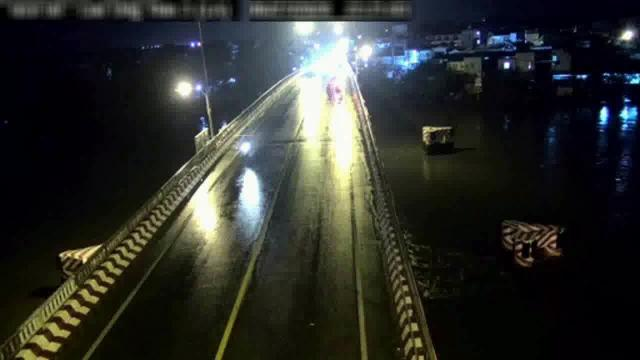Bike: (237, 136, 256, 154), (332, 85, 344, 102)
